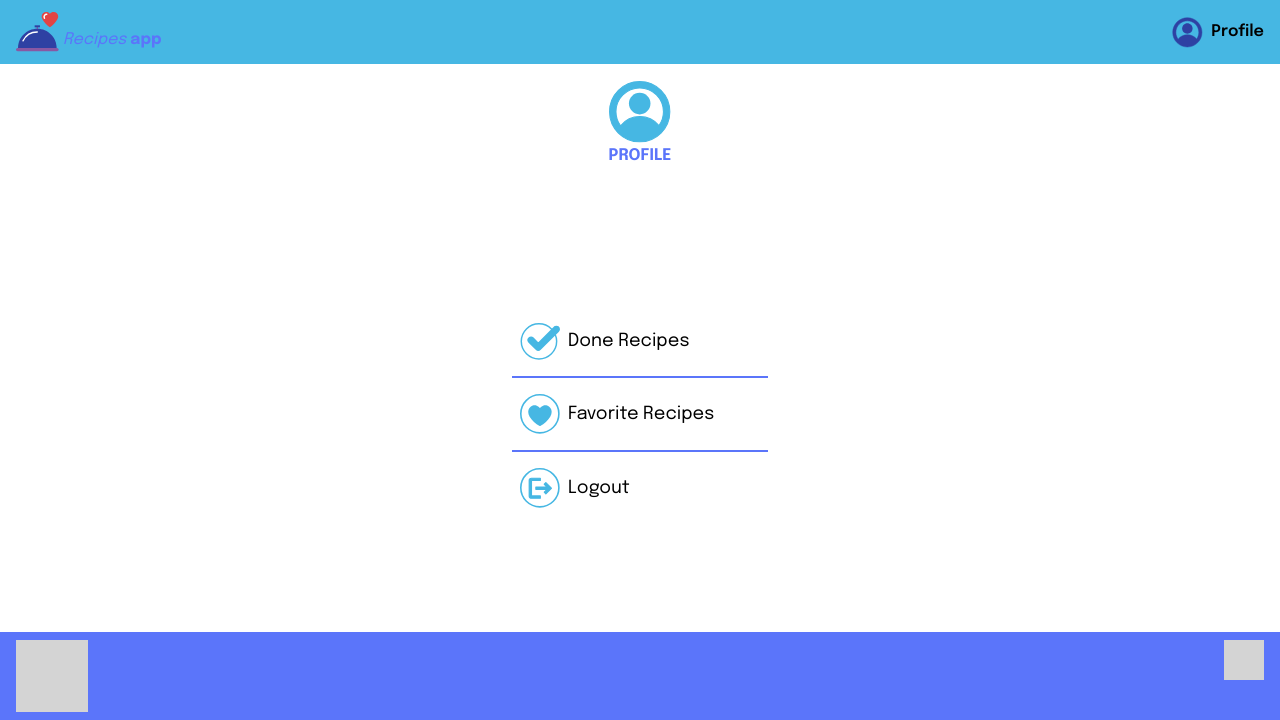
Scenario: profile page › should show the buttons
Expected: the link with test id "profile-done-btn" is shown, [520,323,690,360]
Expected: the link with test id "profile-favorite-btn" is shown, [512,376,768,434]
Click the link with test id "profile-logout-btn" at x=640, y=479, box [512,450,768,508]
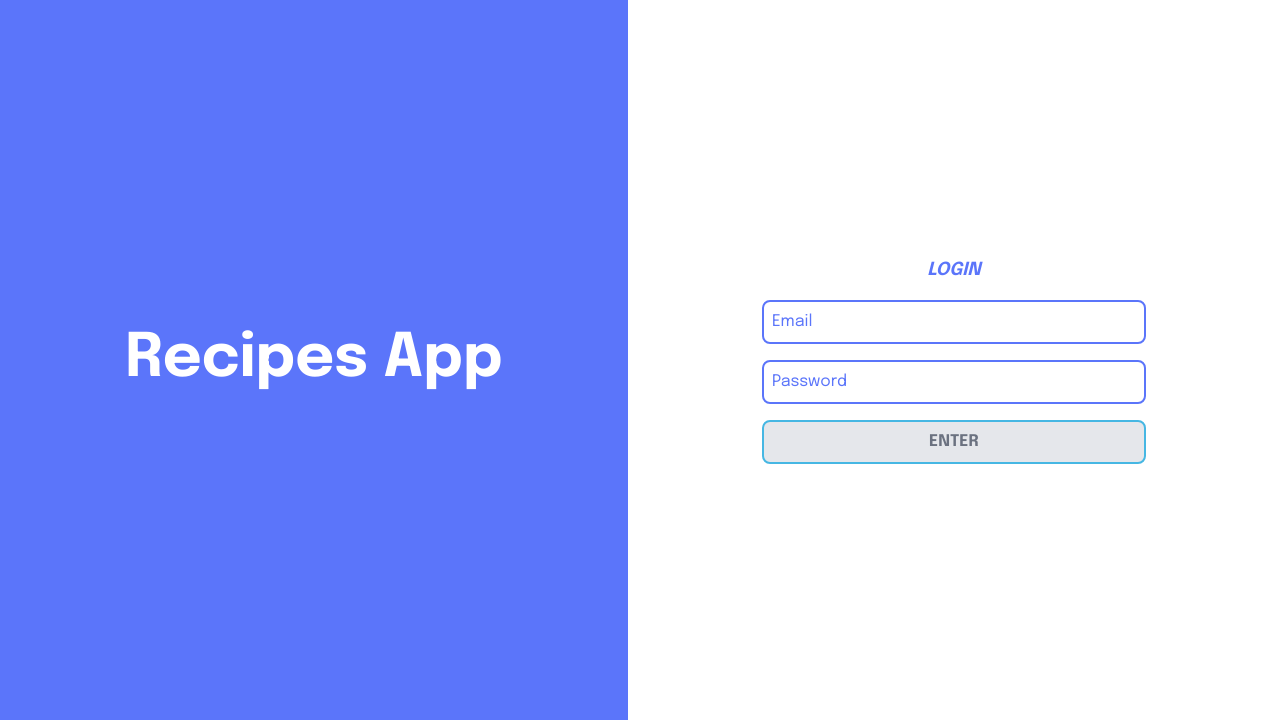
Expected: the field with test id "email-input" is shown, [762,300,1146,344]
